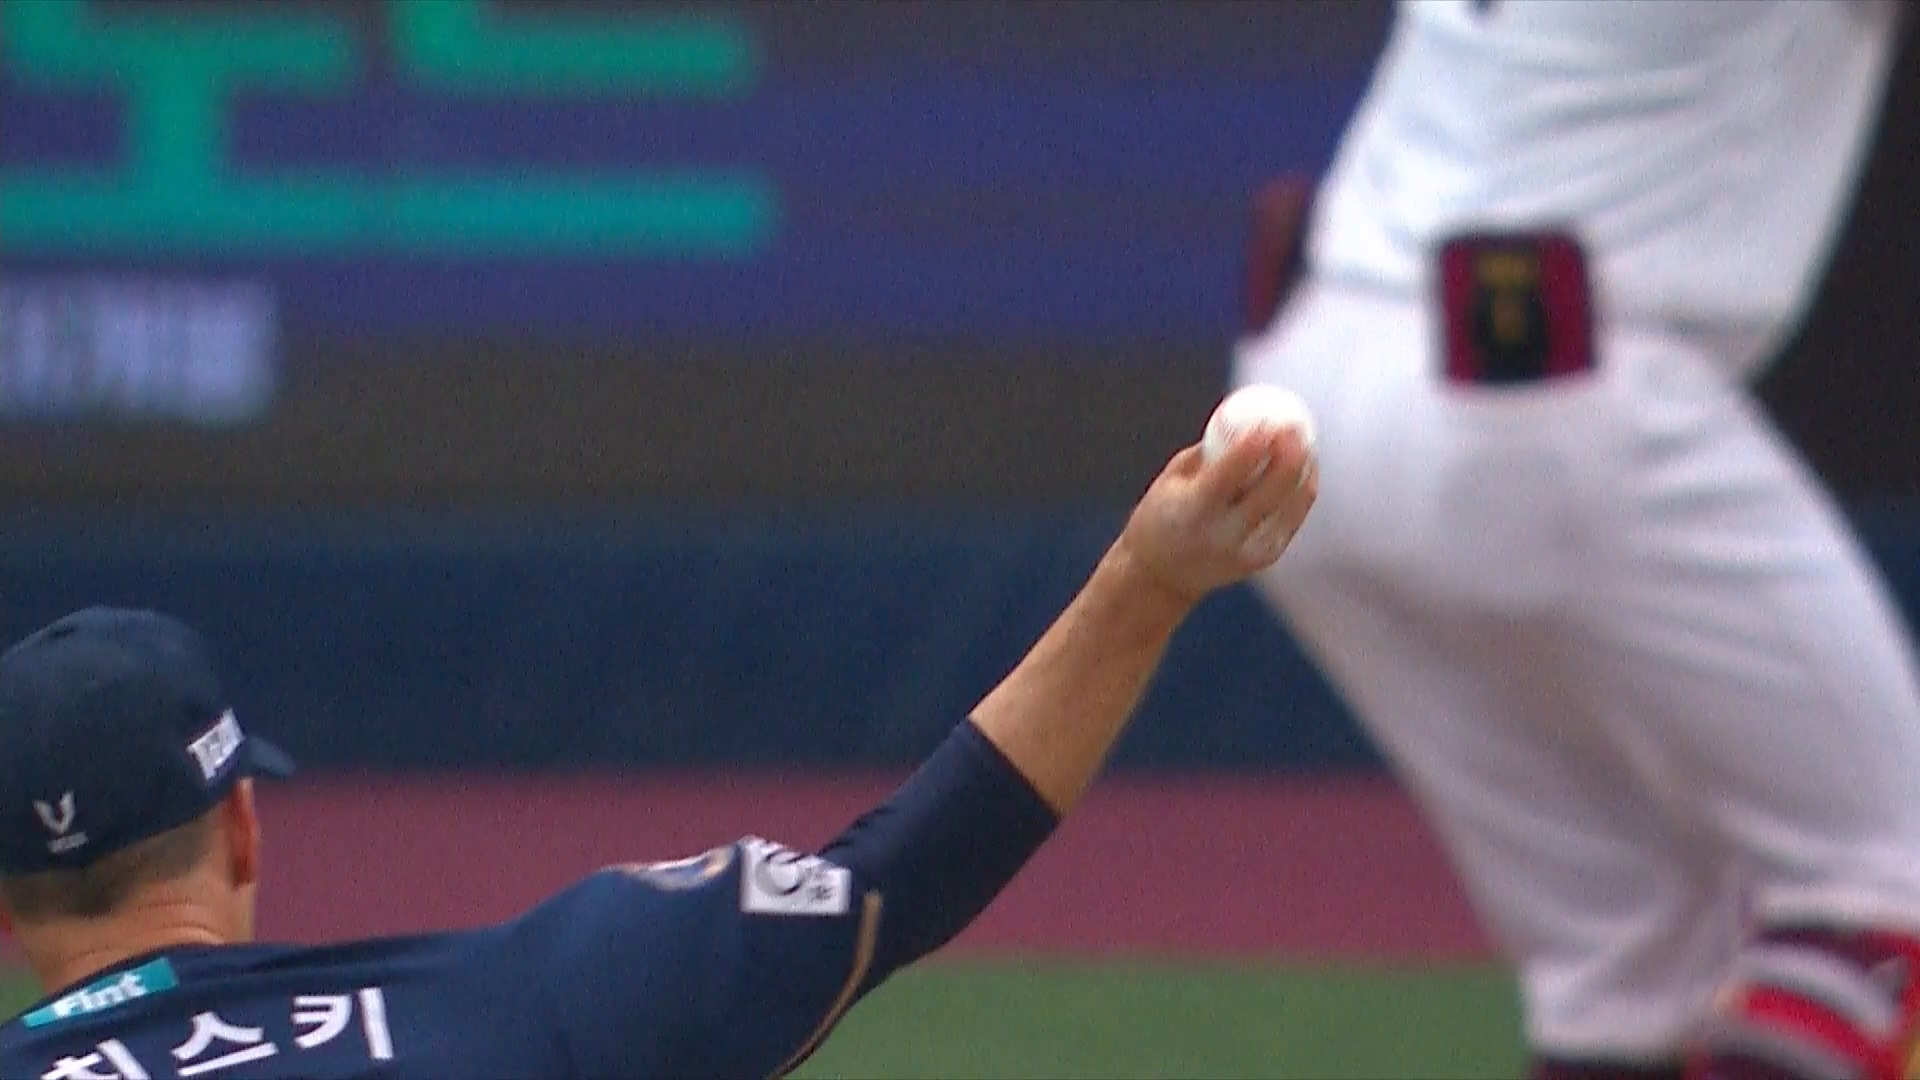zoomin_hand: (887, 369, 1333, 890)
